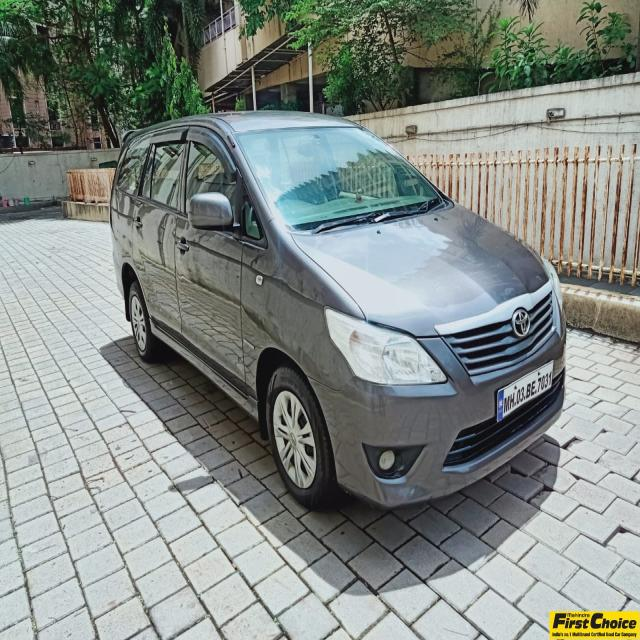light_vehicle: (107, 110, 568, 512)
